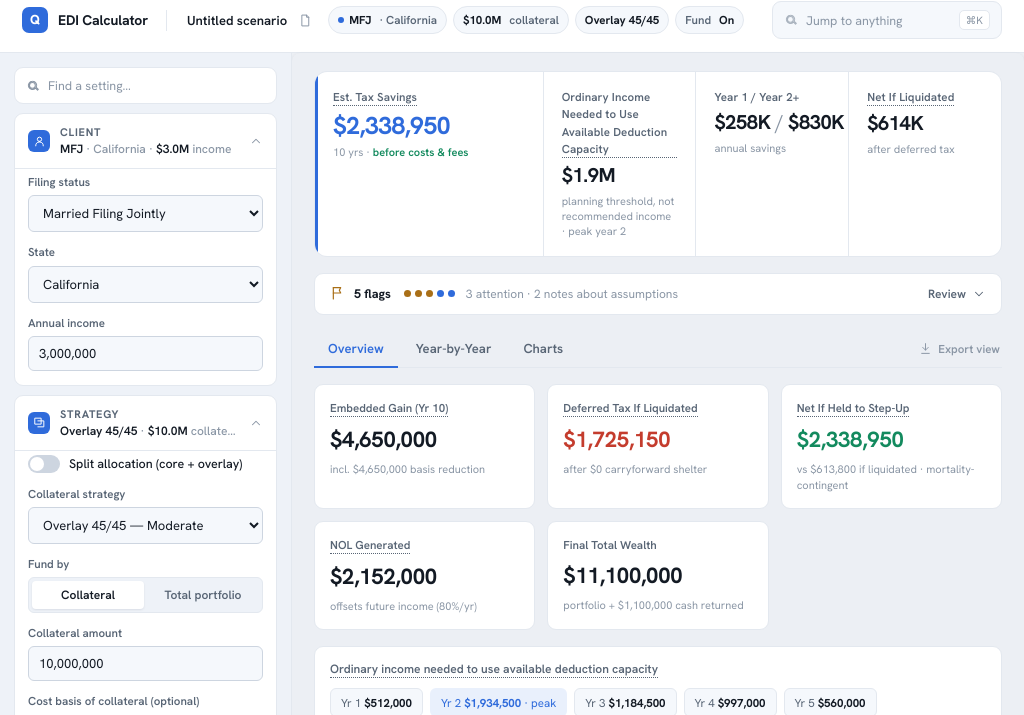
Test case: Workspace split allocation (D-026) › split toggle produces results identical to calculate() with the same splitAllocation
Click the checkbox labelled "Split allocation (core + overlay)" at (146, 464), box [28, 455, 263, 474]
(page scrolled)
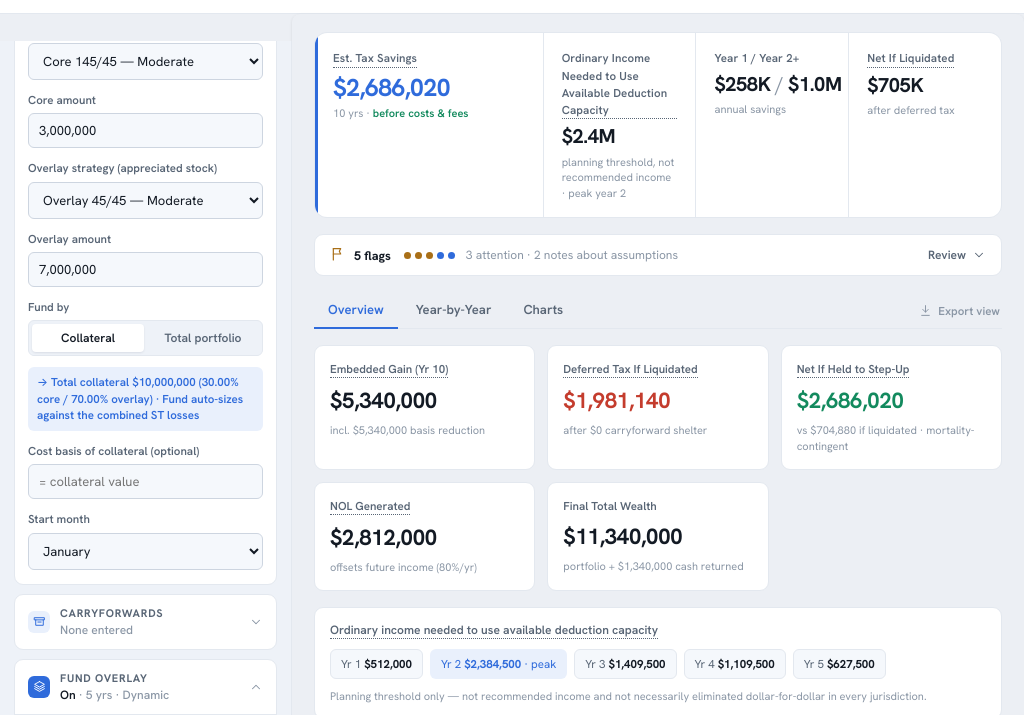
expect the text with test id "ws-split-total" shows "10,000,000": met, box [132, 374, 196, 389]
expect the text with test id "ws-split-total" shows "30": met, box [202, 374, 239, 389]
expect the text with test id "ws-split-total" shows "70": met, box [71, 390, 108, 405]
